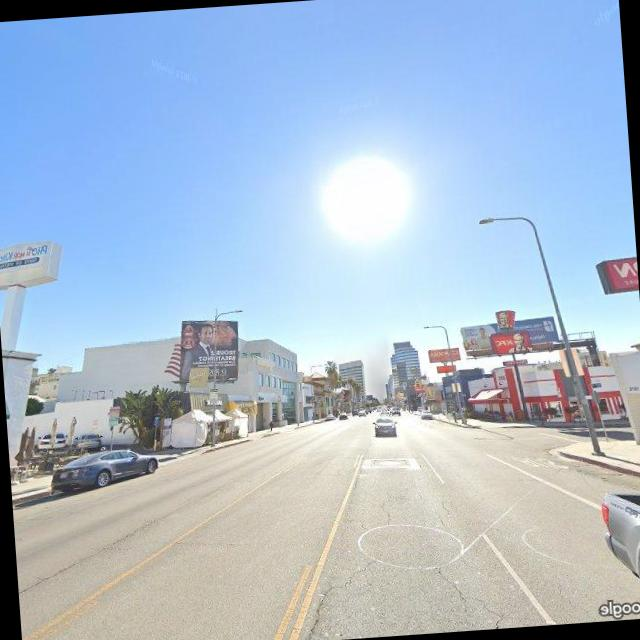pothole: (290, 556, 379, 640), (434, 560, 512, 632)
